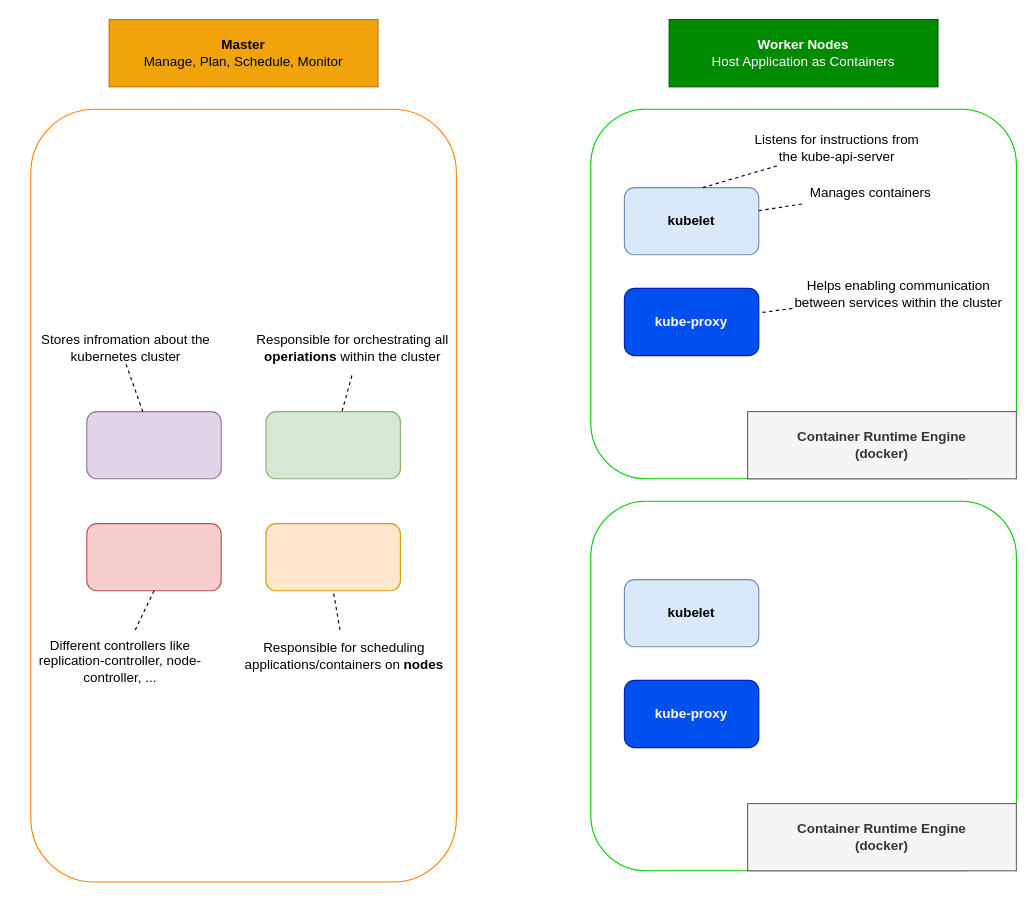
Some shapes in this 1036 by 902 pixel diagram are drawn without their labels. Each missing label, with the centre of its shape:
ETCD Cluster: point 153,444
Kube Controller Manager: point 153,556
kube-apiserver: point 332,444
kube-scheduler: point 332,556
